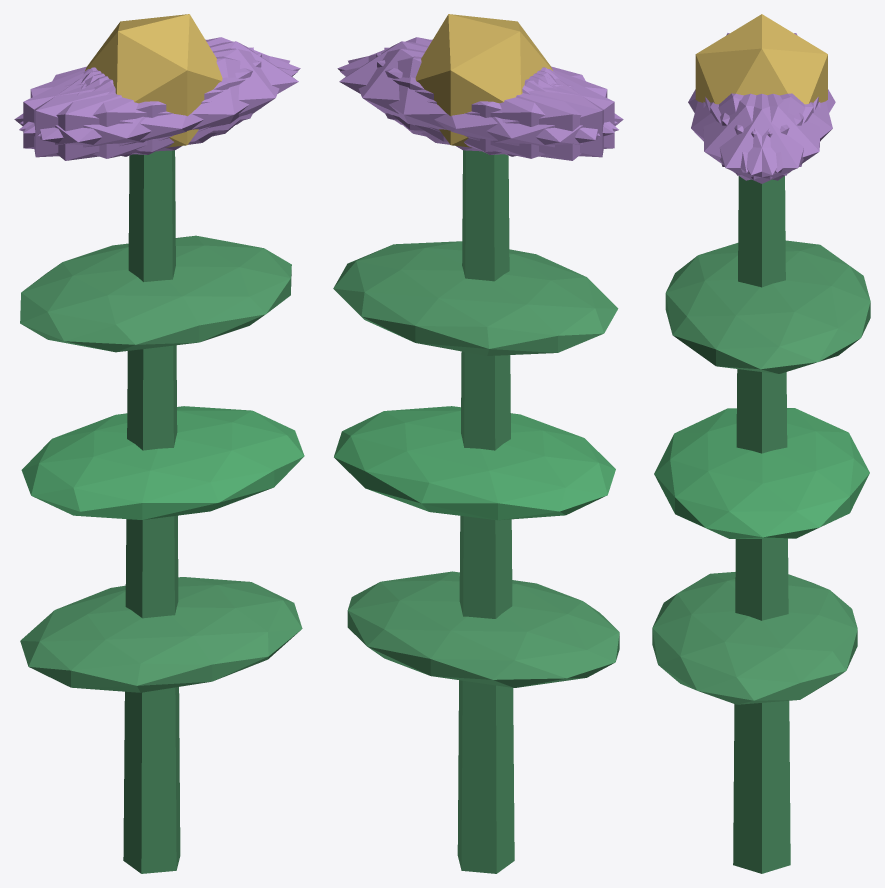
File: amaranthus-viridis.glb
3 views of the same model, side by side, from view 1: azimuth 30°, elevation 25°; view 2: azimuth 150°, elevation 25°; view 3: azimuth 270°, elevation 25° (orthographic).
Parts seen in each view (by area): view 1: stem, leaf0, leaf1, leaf2, center, petal1, petal6, petal2, petal5, petal7, petal0, petal4 (+2 smaller); view 2: stem, leaf2, leaf1, leaf0, center, petal8, petal3, petal7, petal4, petal2, petal0, petal5 (+2 smaller); view 3: stem, leaf1, leaf2, leaf0, center, petal0, petal5, petal4, petal1, petal8.
Part boxes in pixels (box(x1,y1,x2,y2)): stem: box(123, 150, 180, 873); leaf0: box(20, 577, 302, 692); leaf1: box(21, 406, 304, 519); leaf2: box(20, 235, 291, 352); center: box(85, 14, 222, 147); petal1: box(19, 56, 297, 158); petal6: box(14, 69, 216, 160); petal2: box(34, 47, 253, 157); petal5: box(38, 48, 289, 151); petal7: box(23, 53, 261, 154); petal0: box(85, 41, 298, 141); petal4: box(20, 37, 300, 133); stem: box(457, 150, 514, 873); leaf2: box(333, 241, 618, 355); leaf1: box(334, 406, 615, 520); leaf0: box(347, 571, 619, 687); center: box(415, 14, 552, 147); petal8: box(340, 56, 618, 158); petal3: box(421, 69, 623, 160); petal7: box(384, 47, 603, 157); petal4: box(348, 48, 599, 151); petal2: box(376, 53, 614, 154); petal0: box(339, 41, 553, 141); petal5: box(337, 37, 617, 133); stem: box(733, 176, 790, 873); leaf1: box(654, 408, 869, 538); leaf2: box(665, 240, 870, 373); leaf0: box(652, 572, 857, 704); center: box(695, 14, 827, 104); petal0: box(705, 93, 818, 183); petal5: box(703, 93, 813, 180); petal4: box(710, 93, 820, 180); petal1: box(691, 93, 803, 172); petal8: box(720, 93, 832, 172).
Bounding box in the file's own units: 0.1452 × 0.4239 × 0.101.
